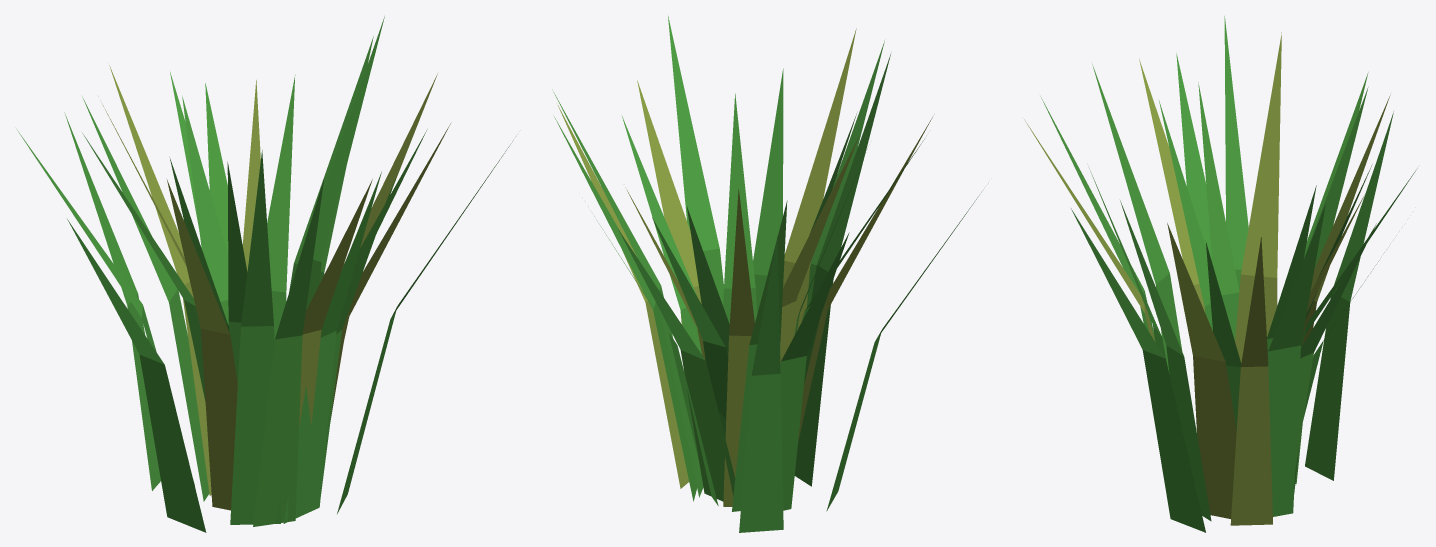
Rendered from grass_clump_c.glb.
3 views of the same model, side by side, from view 1: azimuth 30°, elevation 25°; view 2: azimuth 150°, elevation 25°; view 3: azimuth 270°, elevation 25° (orthographic). The views are drawn at different scales.
Parts seen in each view (by area): view 1: grass_clump_c; view 2: grass_clump_c; view 3: grass_clump_c.
Boxes of the visible parts, bbox=[...] form: grass_clump_c: bbox=[17, 16, 513, 532]; grass_clump_c: bbox=[552, 16, 981, 532]; grass_clump_c: bbox=[1024, 16, 1417, 532].
Bounding box in the file's own units: 0.5908 × 0.5748 × 0.5169.
